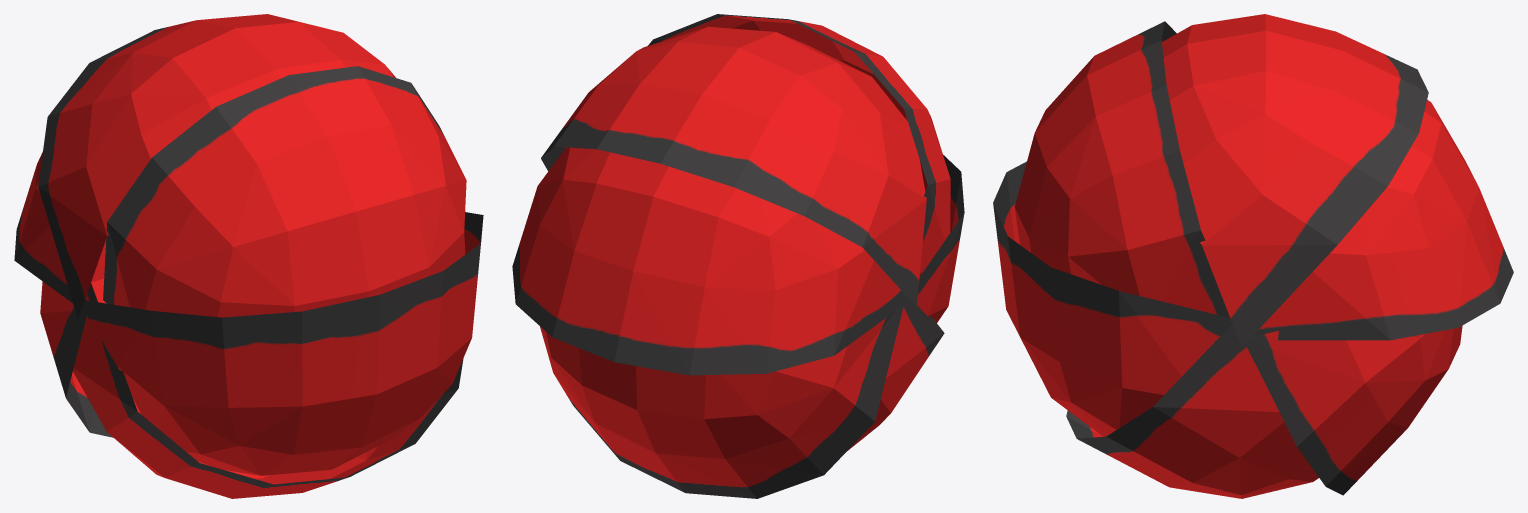
Rendered from pillBugEnemy.obj.
The picture shows the model from 3 angles, left to right: view 1: azimuth 30°, elevation 25°; view 2: azimuth 150°, elevation 25°; view 3: azimuth 270°, elevation 25°; orthographic projection. The views are drawn at different scales.
Parts seen in each view (by area): view 1: pillBug; view 2: pillBug; view 3: pillBug.
Part boxes in pixels (x1=…): pillBug: x1=14, y1=14, x2=483, y2=498; pillBug: x1=512, y1=14, x2=964, y2=498; pillBug: x1=993, y1=14, x2=1513, y2=498.
Bounding box in the file's own units: 1.58 × 1.87 × 1.99.
